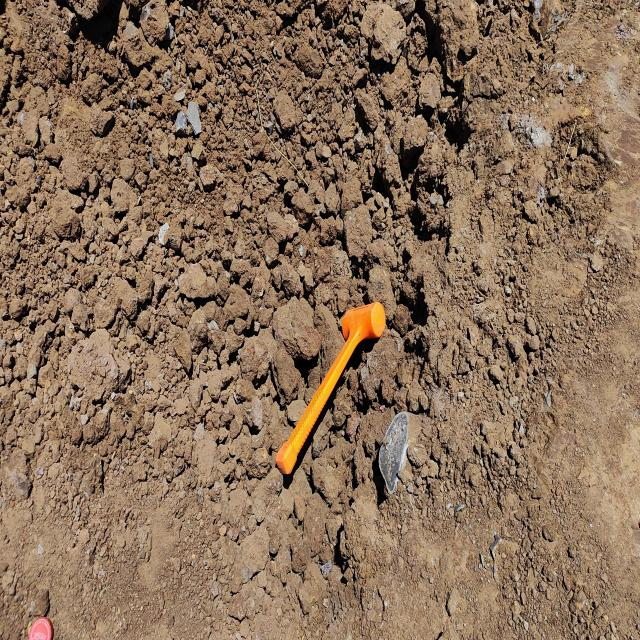Orange_hammer: (275, 300, 386, 476)
